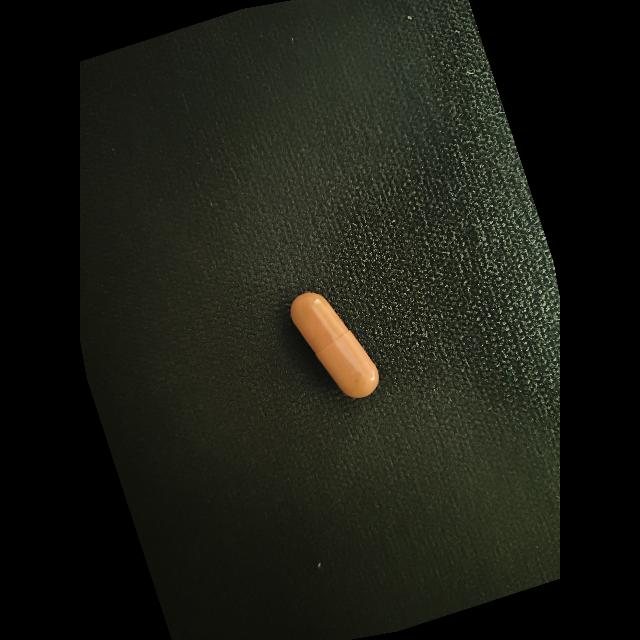Intact Capsule: (291, 293, 379, 398)
